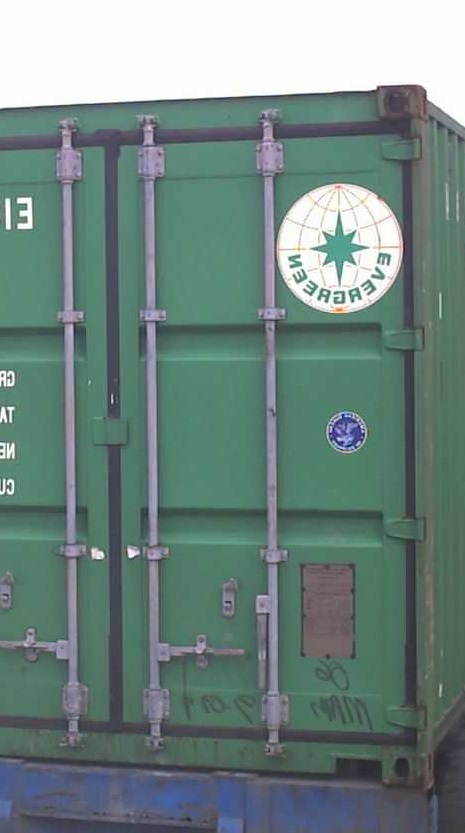container_door: (1, 82, 424, 769)
